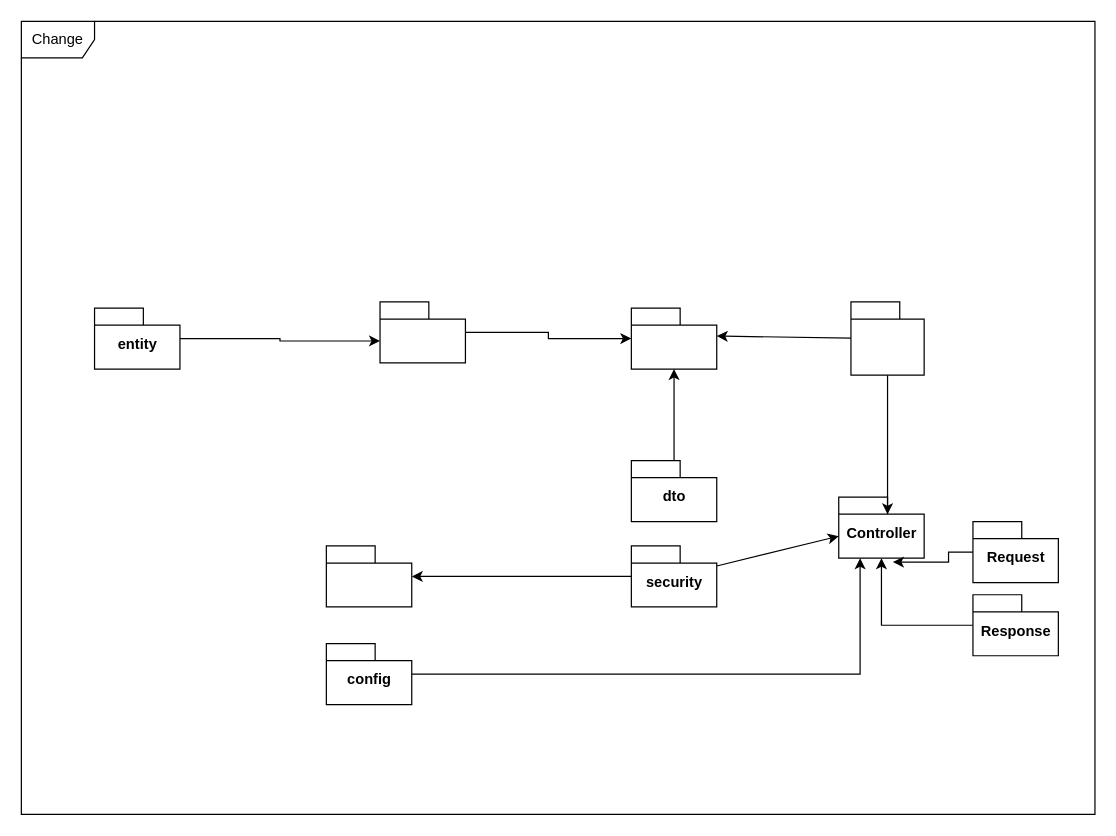
The diagram is 1116 pixels wide and 836 high, and some of its shapes have lost their labels. Each missing label, with the centre of its shape:
impl: the point at 673,338
jwt: the point at 368,576
repository: the point at 422,332
Service: the point at 887,338
